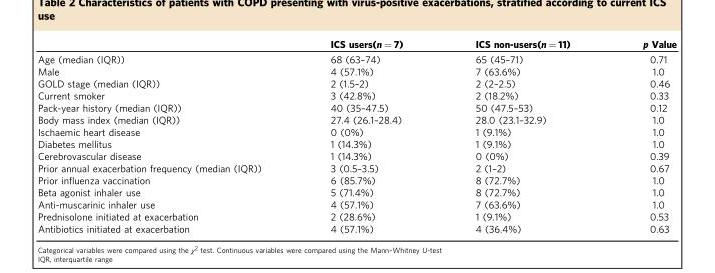table: (36, 37, 675, 233)
table column: (36, 37, 295, 233), (438, 37, 605, 233), (295, 37, 438, 233), (605, 37, 675, 233)
table column header: (36, 37, 675, 51)
table row: (36, 37, 675, 51), (36, 51, 675, 64), (36, 88, 675, 101), (36, 64, 675, 76), (36, 76, 675, 88), (36, 101, 675, 113), (36, 113, 675, 125), (36, 125, 675, 137), (36, 137, 675, 149), (36, 149, 675, 161), (36, 161, 675, 173), (36, 173, 675, 185), (36, 185, 675, 197), (36, 197, 675, 209), (36, 209, 675, 221), (36, 221, 675, 233)
